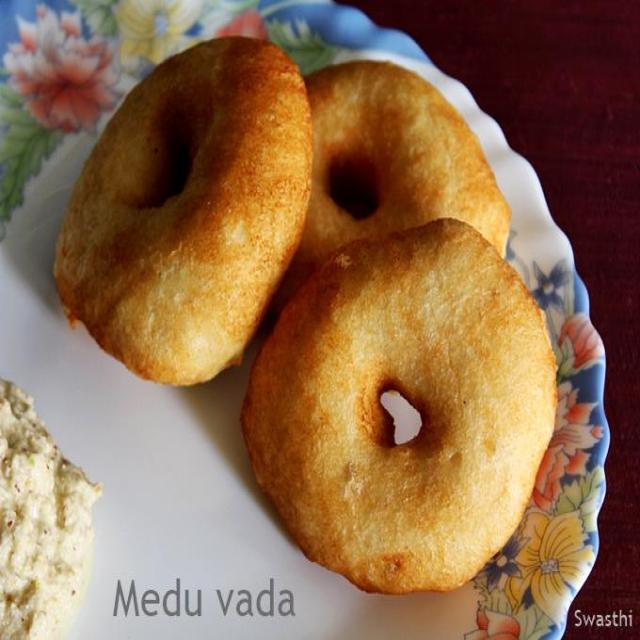VADA: (46, 37, 562, 597)
